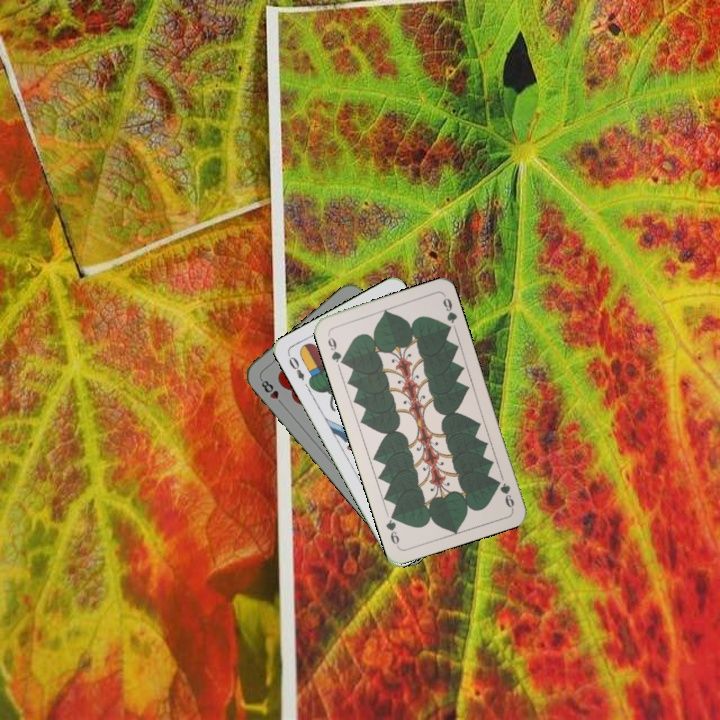EO: (284, 350, 307, 383)
G9: (492, 475, 517, 511), (324, 333, 348, 367)
H8: (256, 375, 287, 409)
